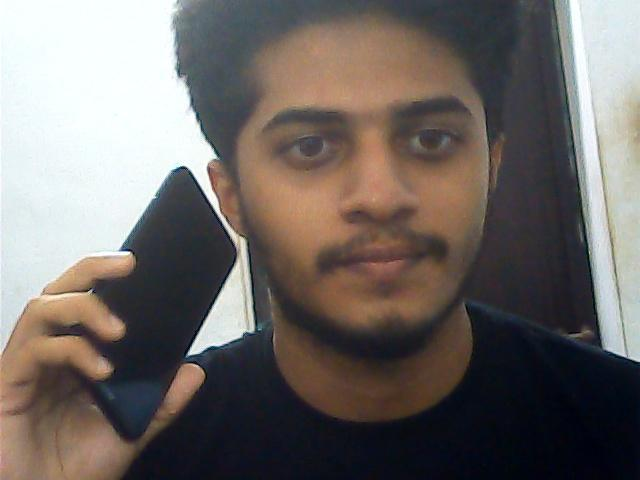PhoneUse: (66, 163, 242, 444)
SafeDriving: (389, 107, 474, 168), (268, 116, 356, 172)
